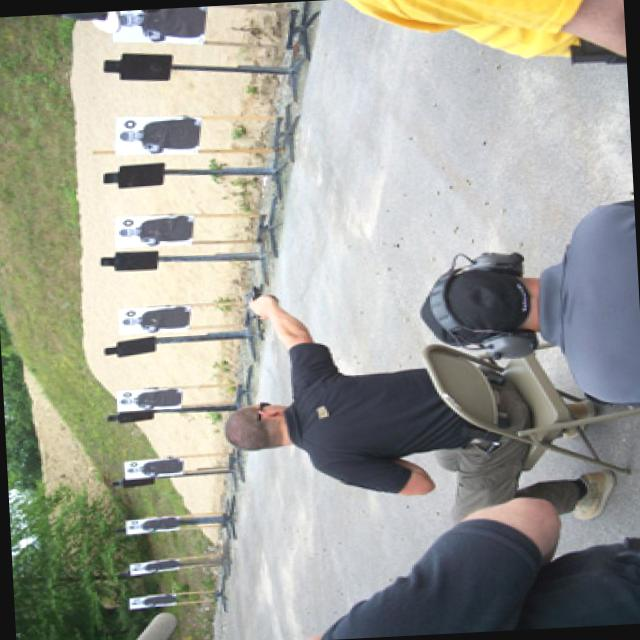handgun: (238, 288, 274, 328)
